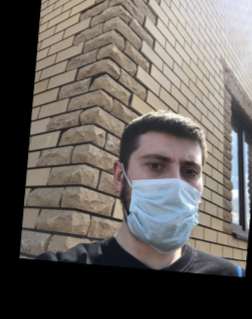with_mask: (122, 145, 201, 255)
